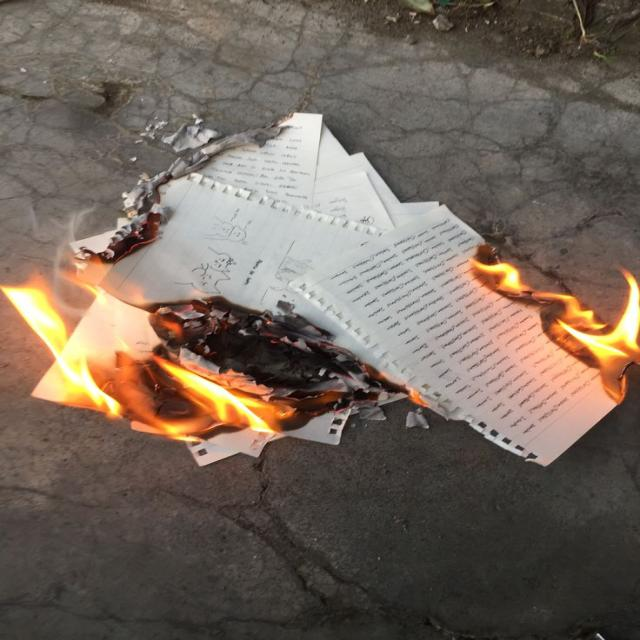fire: (2, 273, 288, 443), (474, 258, 640, 400)
